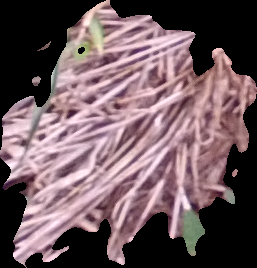soil: (1, 1, 255, 268)
